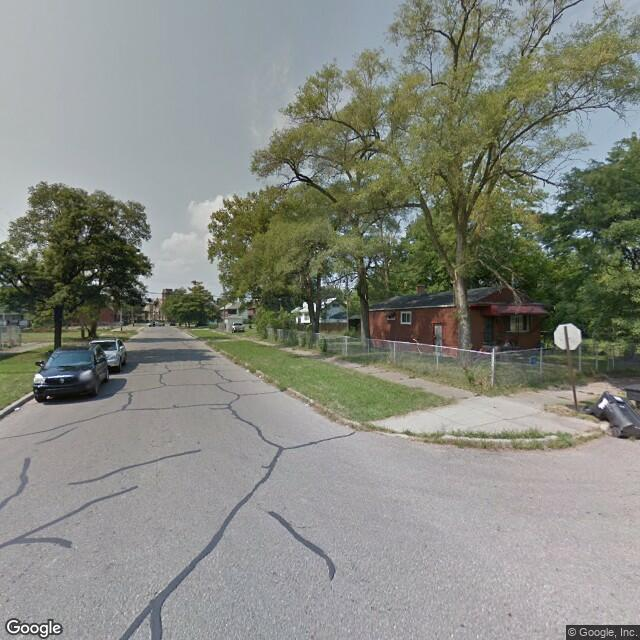litter: (244, 368, 252, 375), (14, 406, 21, 413)
